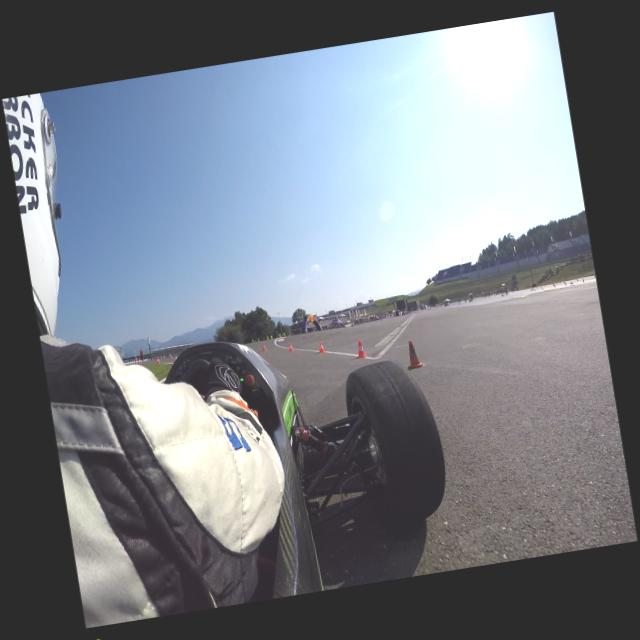orange_cone: (403, 338, 425, 369), (354, 339, 368, 358), (318, 341, 326, 353), (288, 342, 294, 352), (262, 342, 266, 350), (169, 352, 173, 360), (156, 356, 160, 364), (138, 357, 141, 364), (175, 354, 178, 360)
